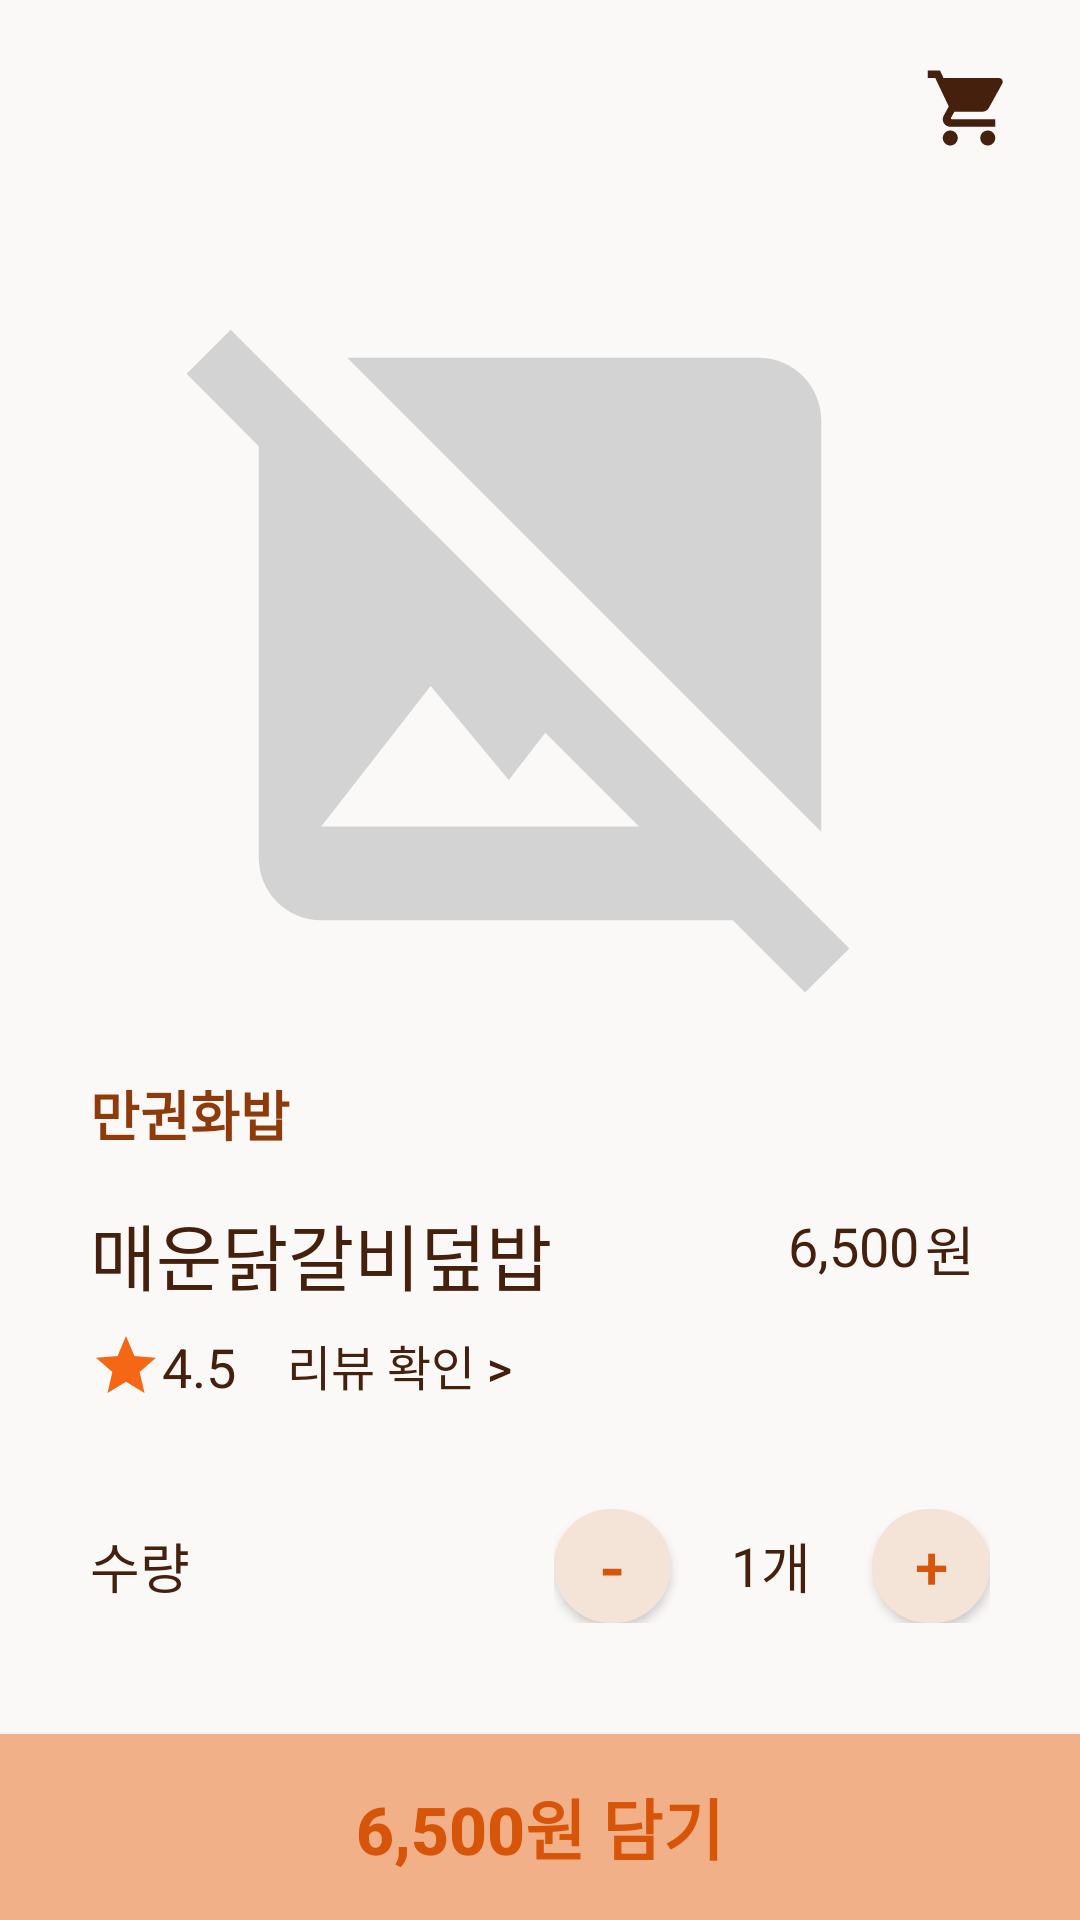

Locate icon controls on the screen. Image size 1080w x 1920h, boxes as (x1, y1, x2, y2).
star rate: (96, 1336, 156, 1393)
